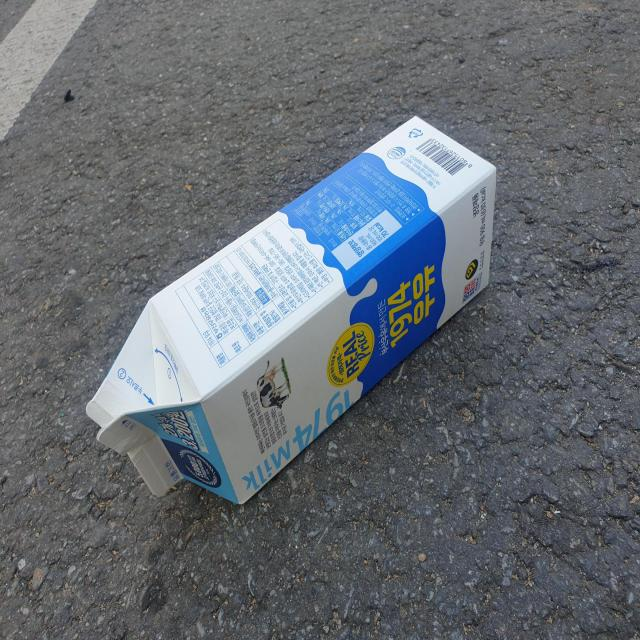paperpack: (86, 116, 496, 504)
